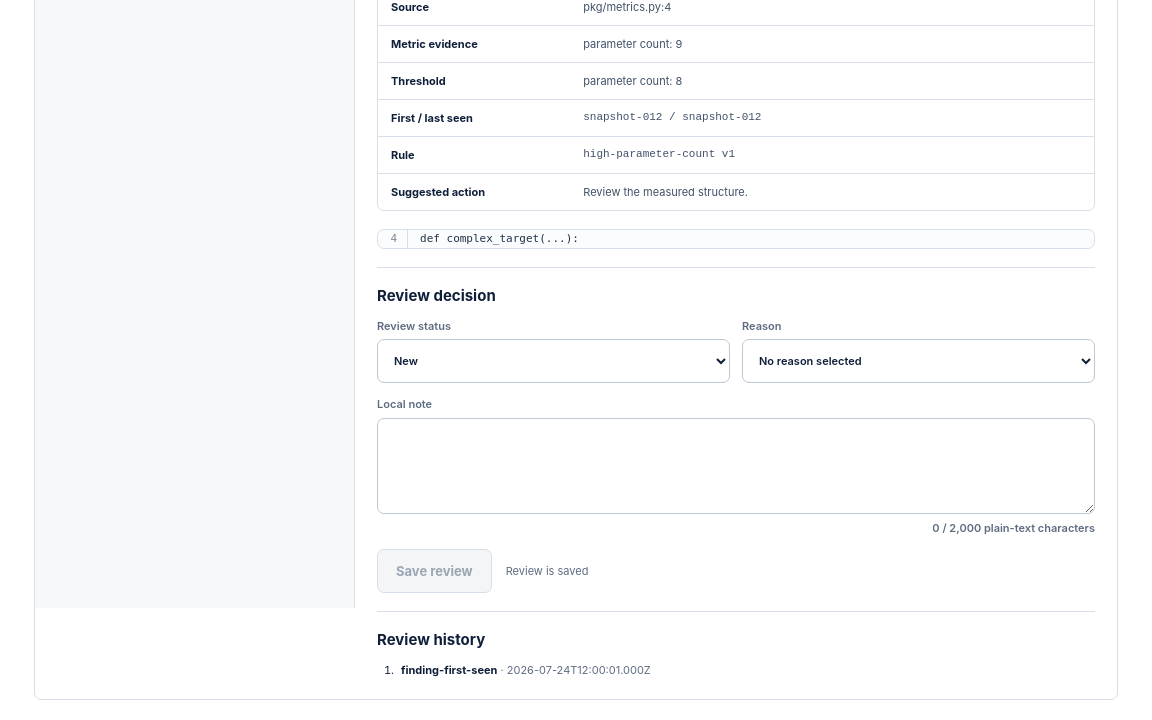
Test: FindingsView › reloads safe current state on optimistic concurrency conflict
The width and height of the screenshot is (1152, 720).
(page scrolled)
Select "Reviewed" in the dropdown labelled "Review status": (554, 361) [377,339,730,383]
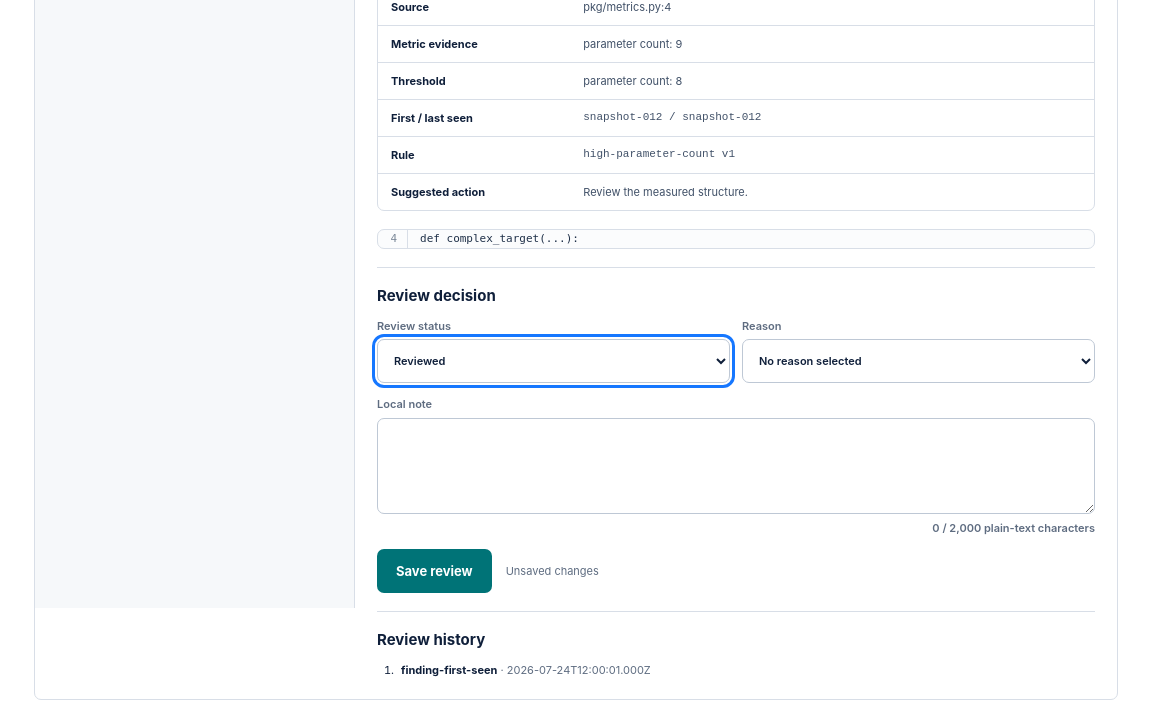
Click the button "Save review": click(434, 571) [377,549,492,593]
(page scrolled)
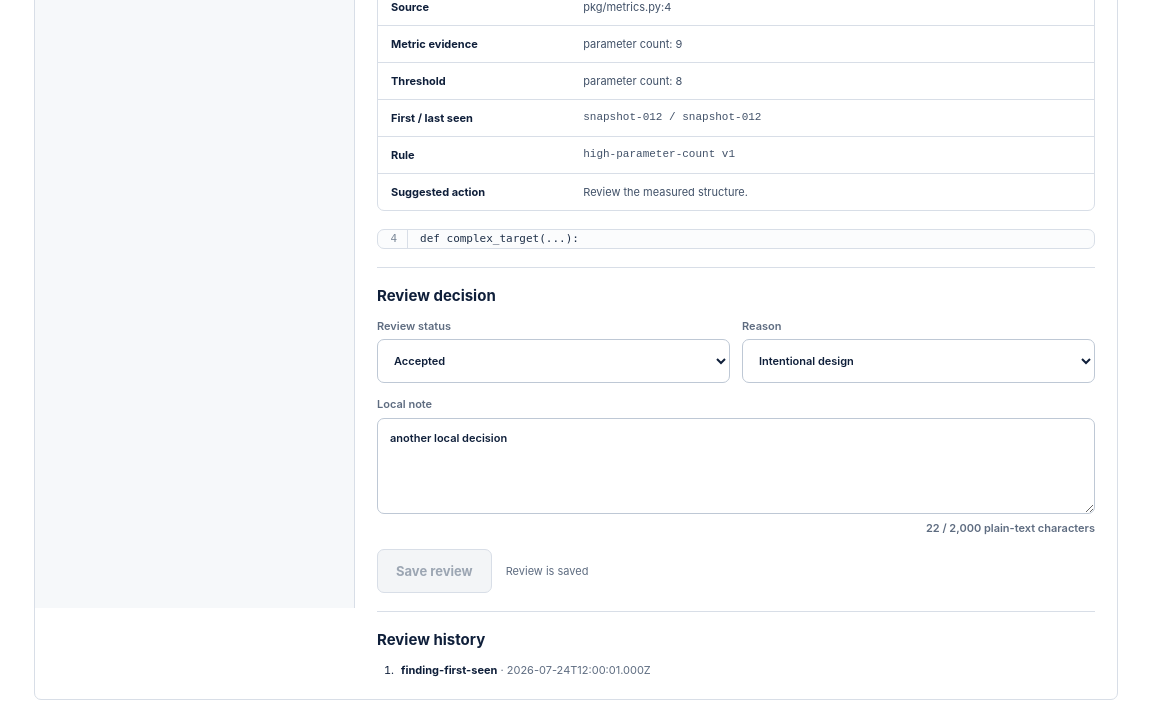
Check: the text box labelled "Local note 22 / 2,000 plain-text characters" holds "another local decision", box [377,418,1095,514]
